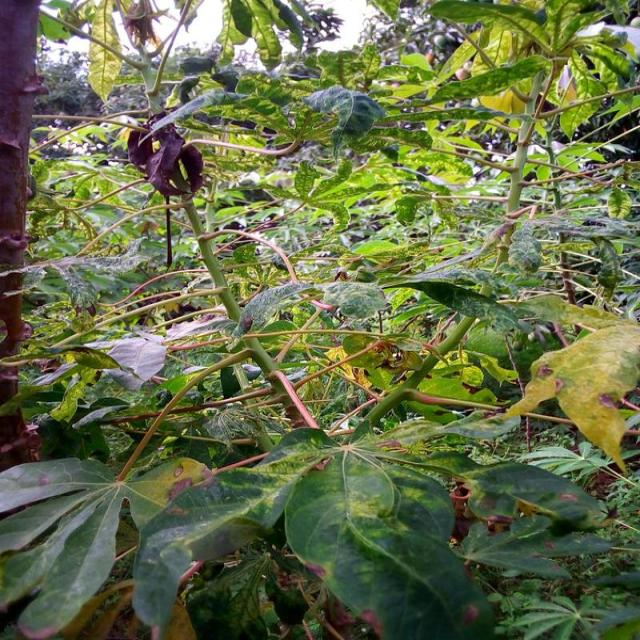cassava leaf: (129, 425, 335, 628), (283, 444, 494, 638), (509, 318, 639, 473)
